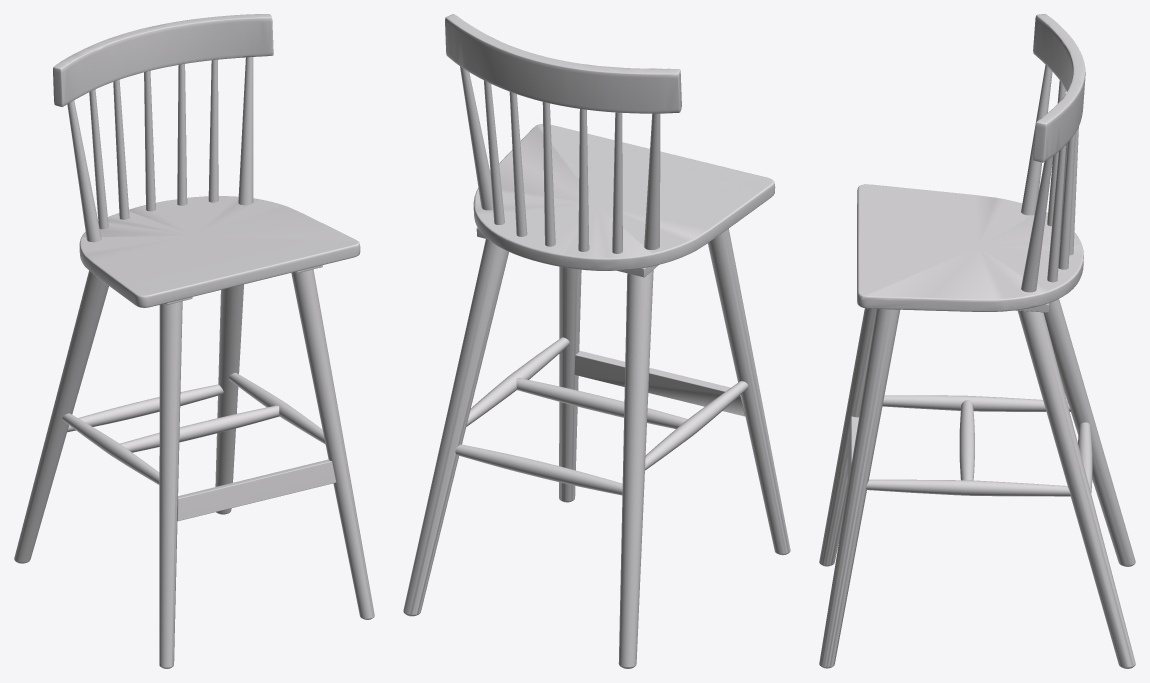
The model's file is abo-b084t7p7hw.f80731630b.glb.
3 renders of one model, left to right at view 1: azimuth 30°, elevation 25°; view 2: azimuth 150°, elevation 25°; view 3: azimuth 270°, elevation 25°, orthographic. The views are drawn at different scales.
Parts seen in each view (by area): view 1: RootNode; view 2: RootNode; view 3: RootNode.
Boxes of the visible parts, box(x1,y1,x2,y2) form: RootNode: box(14, 14, 374, 668); RootNode: box(403, 14, 790, 668); RootNode: box(819, 14, 1135, 668).
Size of the model in its own units: 0.4826 by 1.09 by 0.5715.
1 material, 1 textured.
